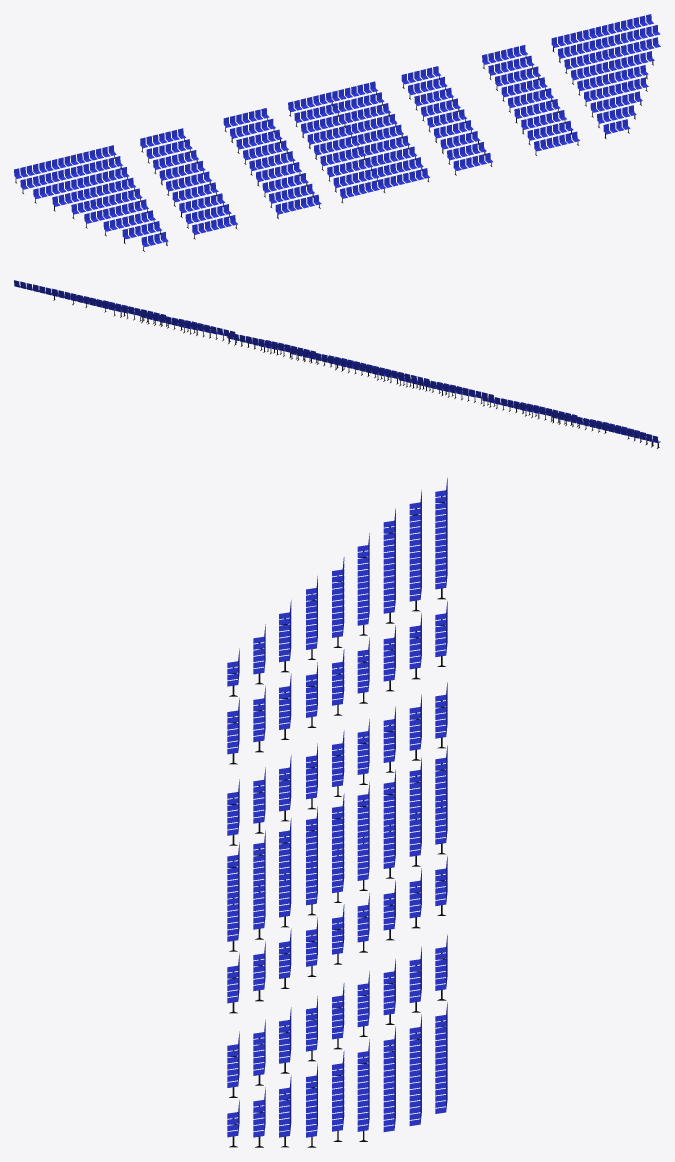
The model's file is Stand_D_Chairs.FBX.
The picture shows the model from 3 angles, top to bottom: view 1: azimuth 30°, elevation 25°; view 2: azimuth 150°, elevation 25°; view 3: azimuth 270°, elevation 25°; orthographic projection. The views are drawn at different scales.
Parts seen in each view (by area): view 1: Stand_D_Chair_196, Stand_D_Chair_192, Stand_D_Chair_49, Stand_D_Chair_48, Stand_D_Chair_139, Stand_D_Chair_73, Stand_D_Chair_140, Stand_D_Chair_195, Stand_D_Chair_22, Stand_D_Chair_71, Stand_D_Chair_23, Stand_D_Chair_197 (+16 smaller); view 2: Stand_D_Chair_71, Stand_D_Chair_22, Stand_D_Chair_48, Stand_D_Chair_139, Stand_D_Chair_165, Stand_D_Chair_117, Stand_D_Chair_72, Stand_D_Chair_02, Stand_D_Chair_166, Stand_D_Chair_01; view 3: Stand_D_Chair_192, Stand_D_Chair_195, Stand_D_Chair_196, Stand_D_Chair_198, Stand_D_Chair_48, Stand_D_Chair_22, Stand_D_Chair_02, Stand_D_Chair_139, Stand_D_Chair_72, Stand_D_Chair_23, Stand_D_Chair_140, Stand_D_Chair_49 (+16 smaller).
Boxes of the visible parts, box(x1,y1,x2,y2) form: Stand_D_Chair_196: box(262, 173, 321, 218); Stand_D_Chair_192: box(521, 110, 579, 155); Stand_D_Chair_49: box(243, 140, 301, 186); Stand_D_Chair_48: box(223, 108, 282, 153); Stand_D_Chair_139: box(482, 45, 540, 90); Stand_D_Chair_73: box(307, 124, 366, 170); Stand_D_Chair_140: box(501, 77, 560, 123); Stand_D_Chair_195: box(179, 193, 237, 239); Stand_D_Chair_22: box(140, 128, 198, 173); Stand_D_Chair_71: box(288, 92, 346, 137); Stand_D_Chair_23: box(159, 160, 218, 206); Stand_D_Chair_197: box(327, 157, 385, 202); Stand_D_Chair_71: box(334, 358, 392, 382); Stand_D_Chair_22: box(482, 394, 540, 419); Stand_D_Chair_48: box(398, 374, 457, 398); Stand_D_Chair_139: box(140, 311, 198, 335); Stand_D_Chair_165: box(70, 294, 129, 319); Stand_D_Chair_117: box(227, 332, 279, 355); Stand_D_Chair_72: box(290, 347, 346, 365); Stand_D_Chair_02: box(551, 411, 607, 428); Stand_D_Chair_166: box(26, 283, 82, 300); Stand_D_Chair_01: box(595, 422, 652, 439); Stand_D_Chair_192: box(227, 1007, 291, 1097); Stand_D_Chair_195: box(227, 673, 291, 764); Stand_D_Chair_196: box(227, 755, 291, 845); Stand_D_Chair_198: box(227, 861, 291, 951); Stand_D_Chair_48: box(383, 682, 447, 772); Stand_D_Chair_22: box(383, 601, 447, 691); Stand_D_Chair_02: box(383, 533, 447, 623); Stand_D_Chair_139: box(383, 934, 447, 1024); Stand_D_Chair_72: box(383, 788, 447, 878); Stand_D_Chair_23: box(306, 637, 369, 727); Stand_D_Chair_140: box(306, 971, 369, 1061); Stand_D_Chair_49: box(306, 719, 369, 809).
Size of the model in its own units: 55205 by 5052 by 8257.
